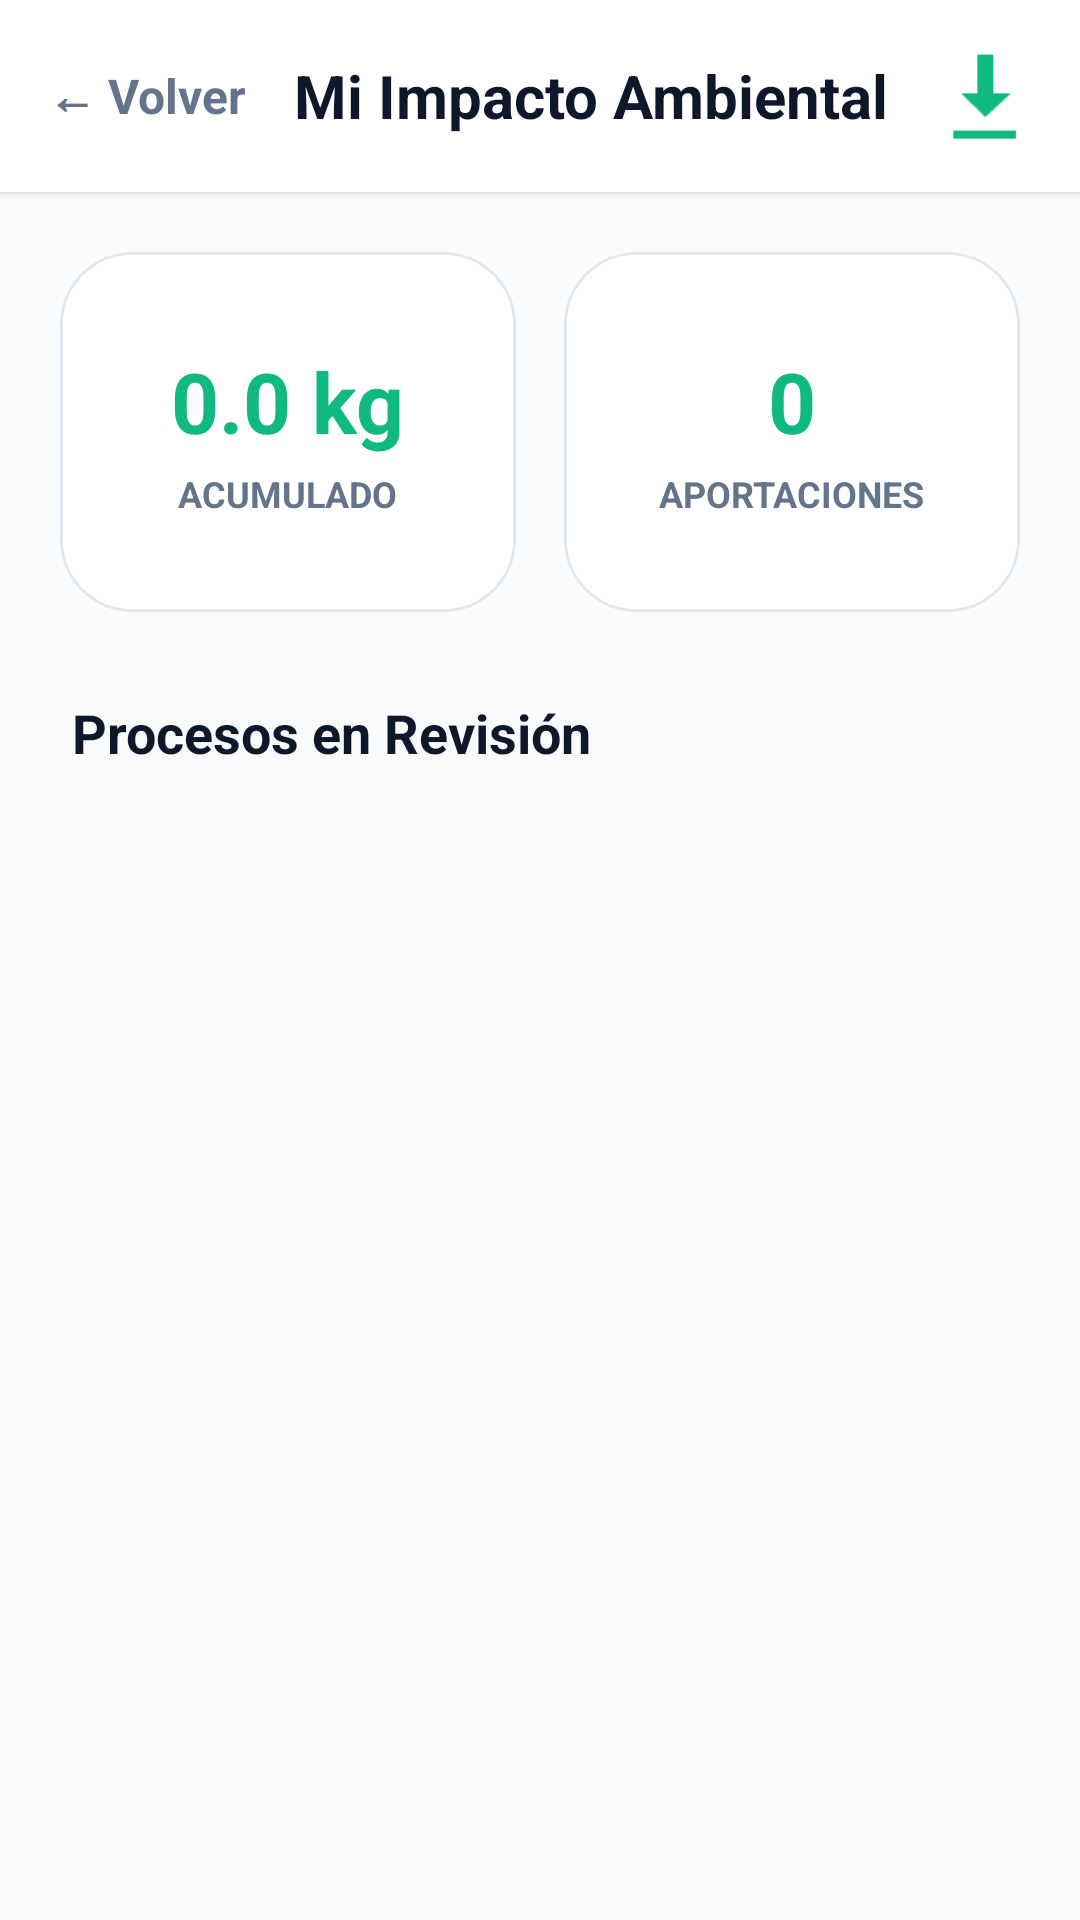

Named icons in this screenshot (1080px x 1920px) and their centers, (x,y):
download: (985,96)
